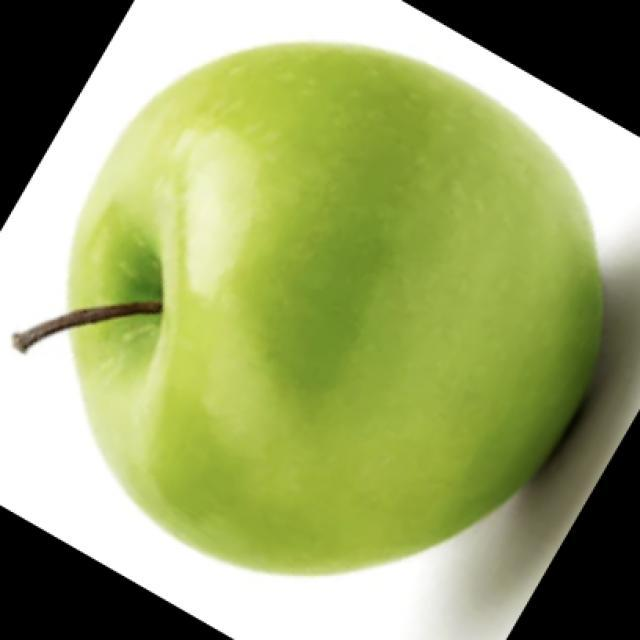Fresh Apple: (63, 34, 600, 568)
